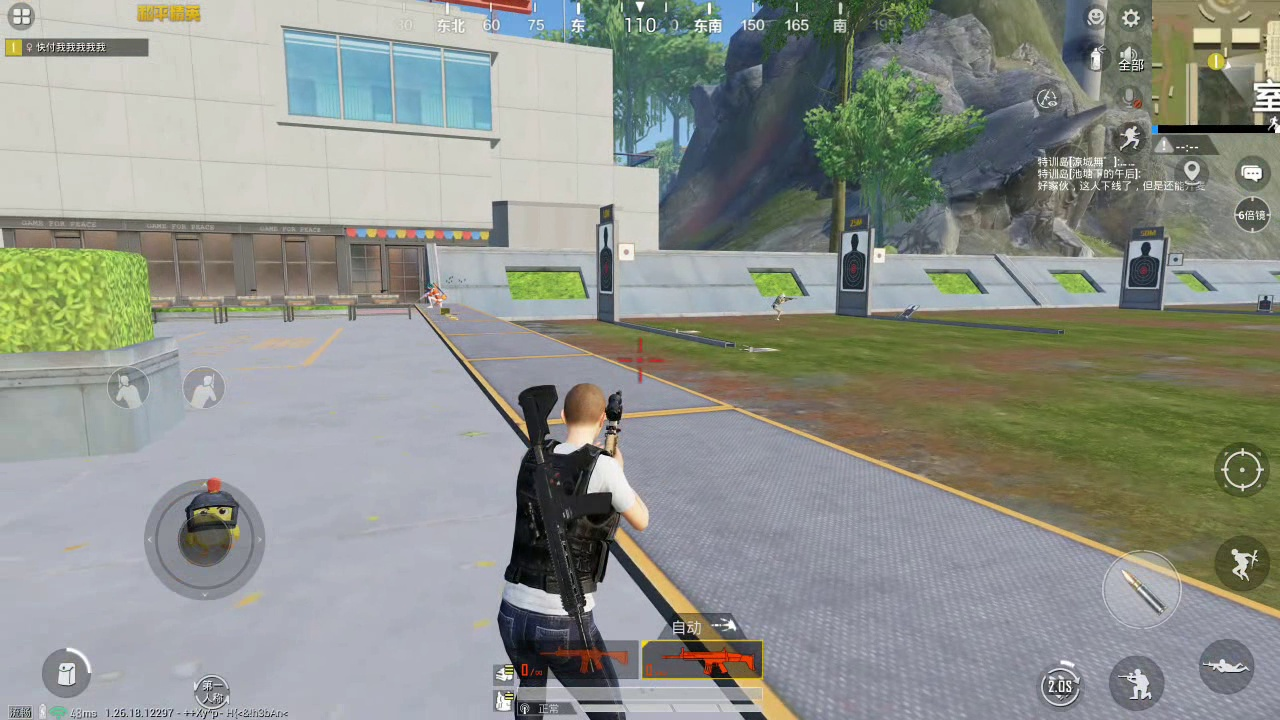enemy: (420, 278, 448, 313), (772, 291, 788, 319)
